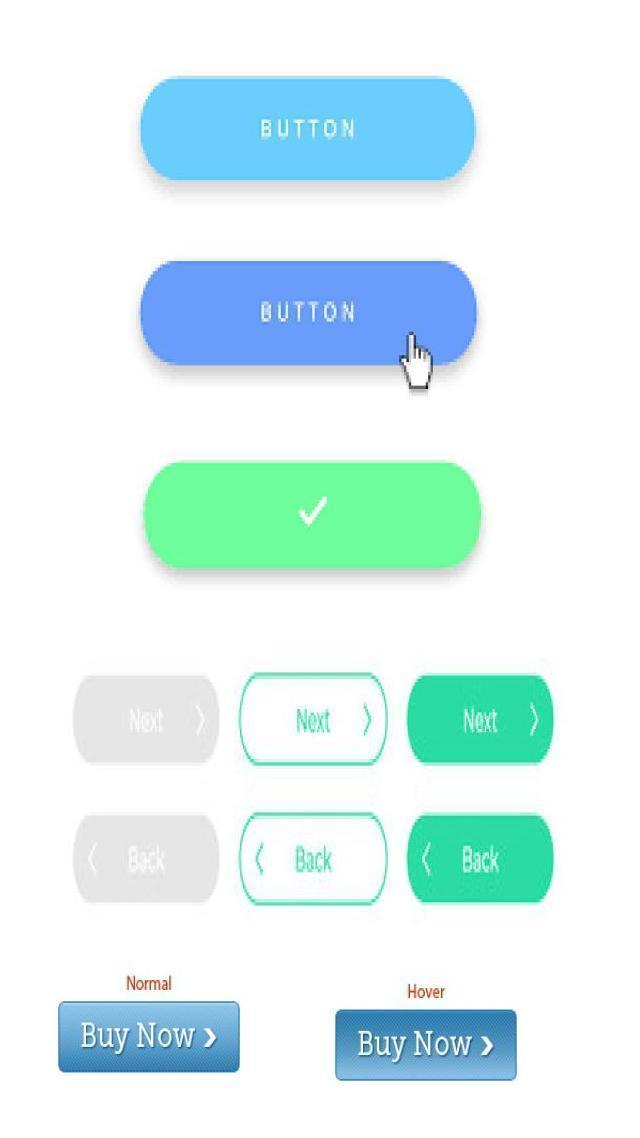Text: (118, 972, 180, 994), (402, 980, 449, 1004)
TextButton: (141, 458, 485, 575), (138, 259, 478, 371), (138, 75, 478, 184), (70, 671, 222, 768), (70, 810, 222, 907), (238, 671, 390, 768), (238, 811, 387, 908), (330, 1005, 520, 1081), (406, 671, 554, 768), (56, 999, 242, 1075), (406, 812, 556, 905)
